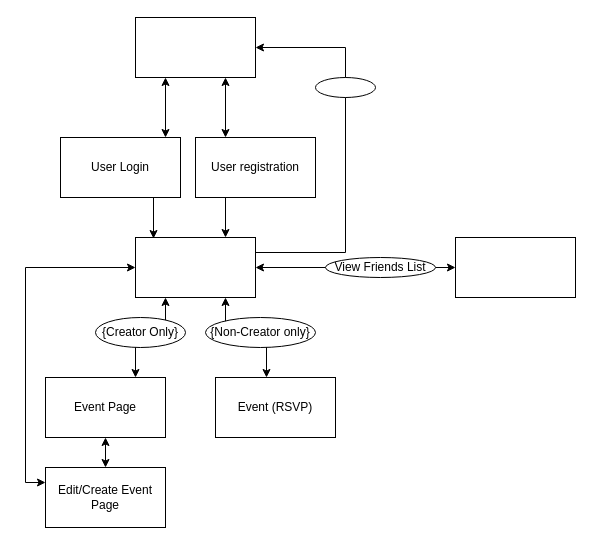
This 593x545 diagram has some shape labels left out. Here are the shapes that lost their labels. From the top down, the centre of each, then its label:
At (x=195, y=47): "Home Page".
At (x=345, y=87): "Logout".
At (x=195, y=267): "Event Lists Page (Main Page)".
At (x=515, y=267): "Friends List".
